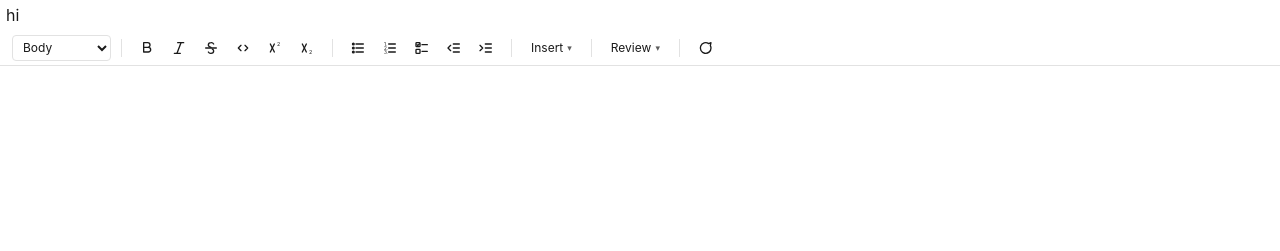
Test: EditorToolbar — 삽입/검토 드롭다운 › 메뉴에서 고른 액션이 접기 전과 동일한 명령을 실행한다 (CriticMarkup 삽입)
The image size is (1280, 251).
Click the button "Review ▾" at (635, 48), box [602,35,669,61]
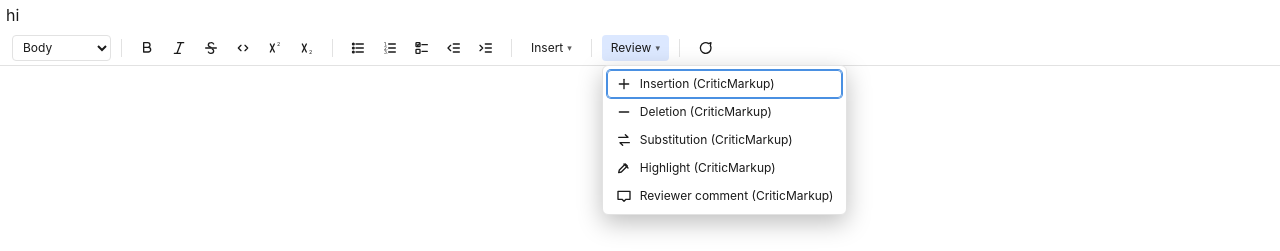
Click the menu item "Insertion (CriticMarkup)" at (725, 84), box [607,70,842,98]
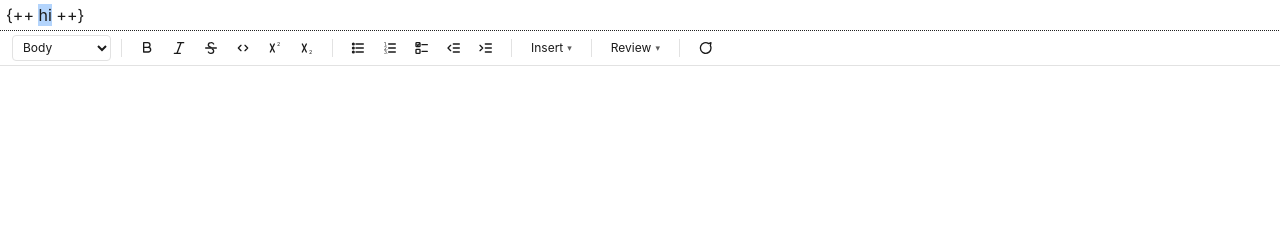
Expected: the text box labelled "{++ hi ++}" is shown, [6,5,84,25]
